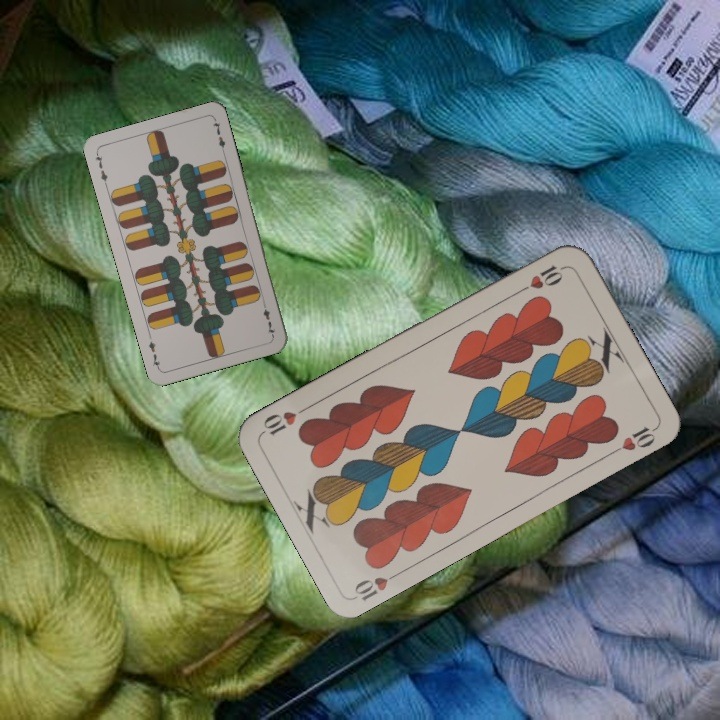E7: (259, 298, 278, 338), (91, 149, 110, 189)
H10: (350, 566, 405, 603), (513, 261, 568, 296)
